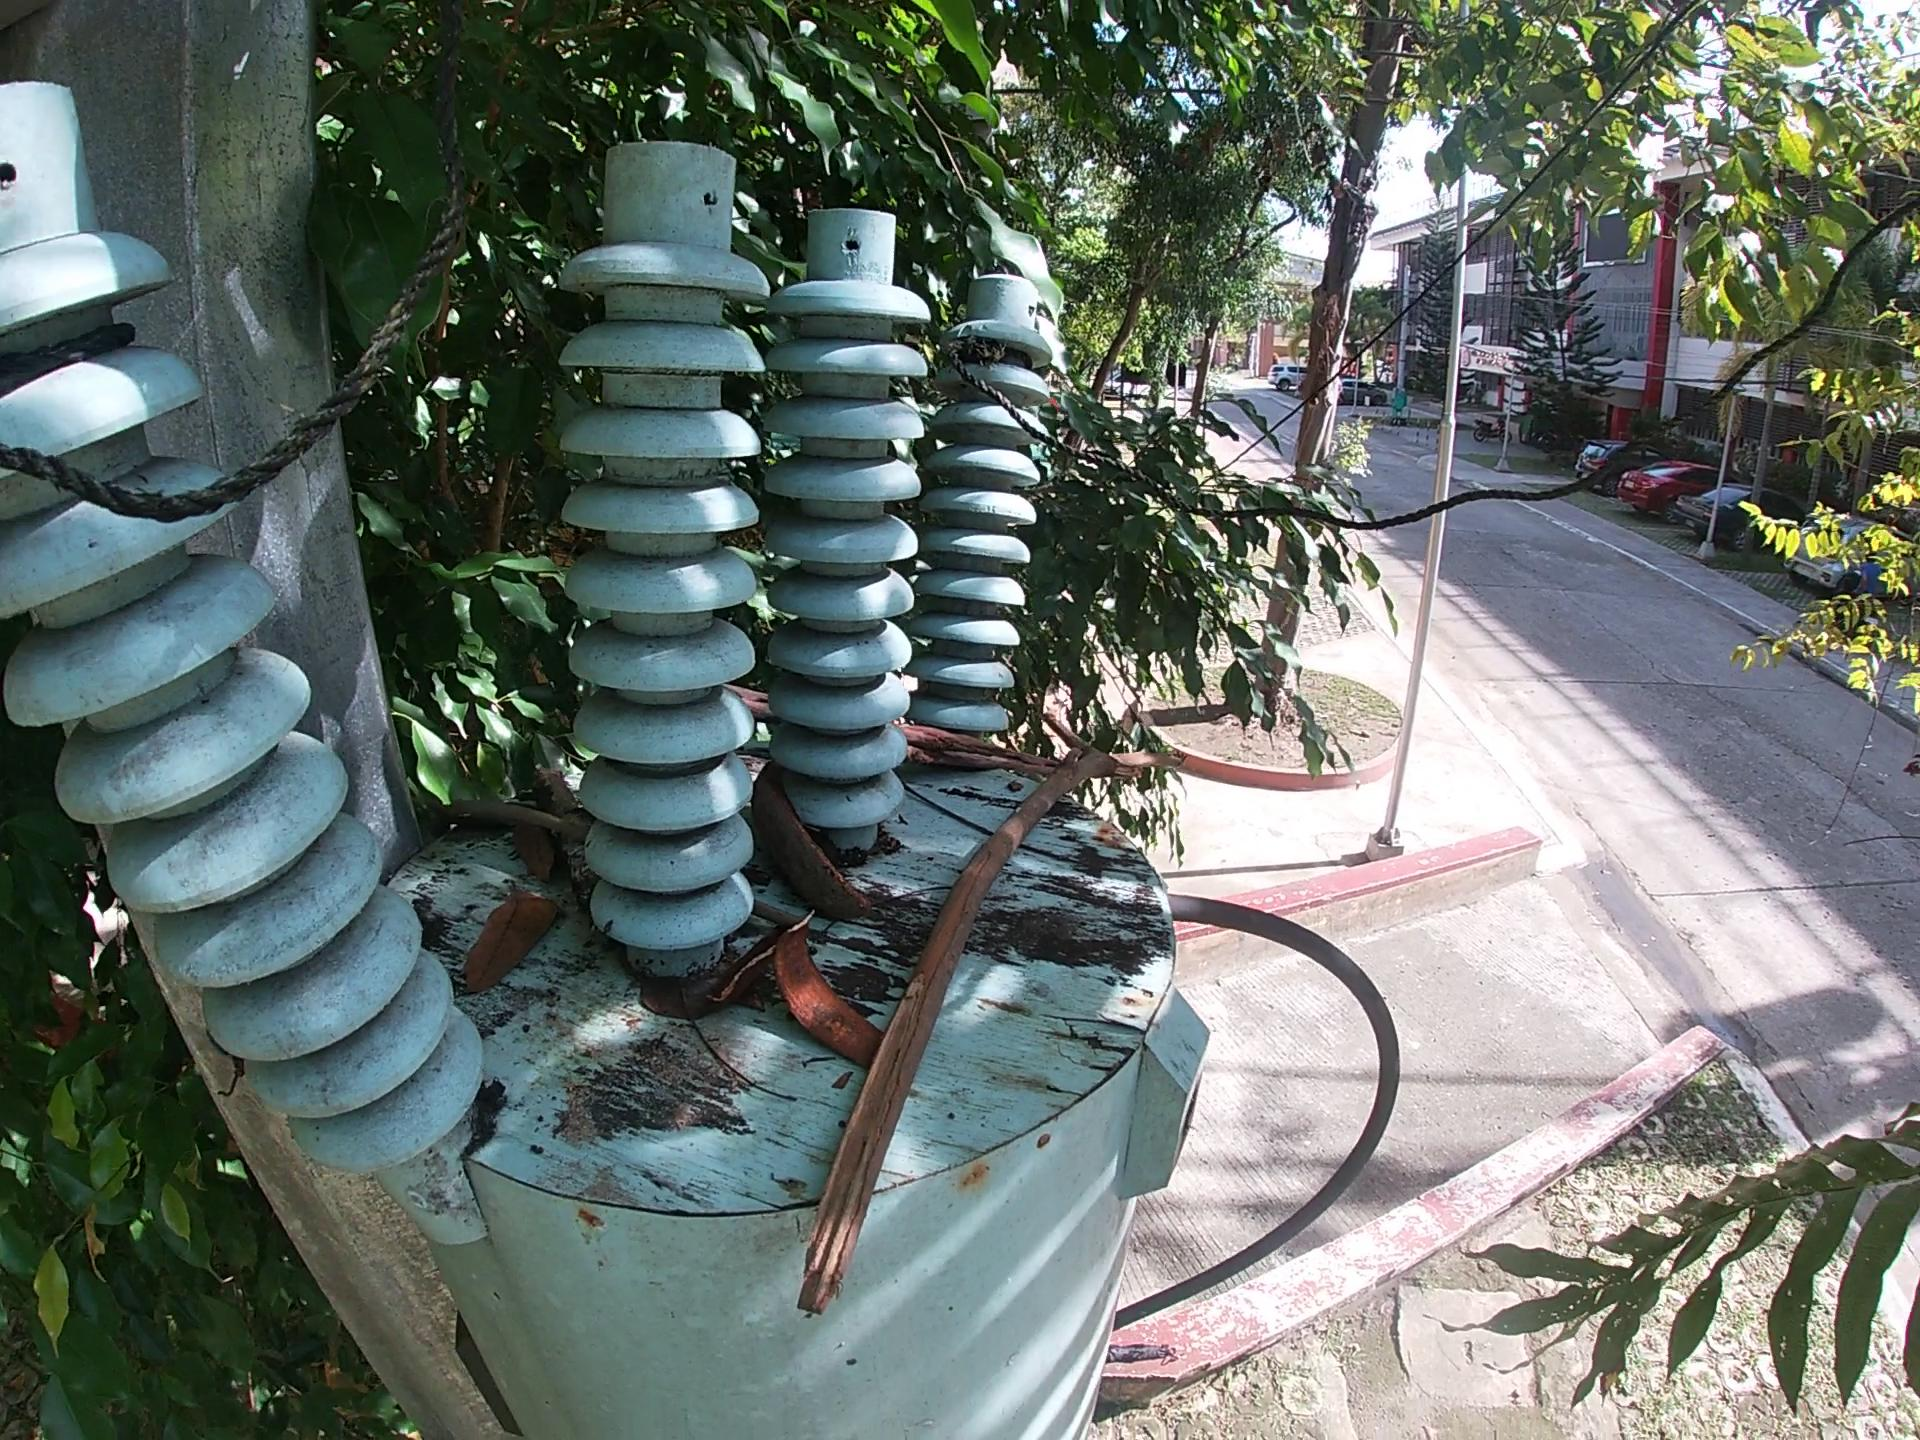leaf: (452, 876, 562, 998), (633, 965, 726, 1023), (503, 818, 562, 892)
mahogany fruit: (745, 759, 872, 926), (768, 906, 892, 1075), (698, 927, 788, 1023)
tree branch: (788, 708, 1191, 1317), (732, 679, 1058, 777), (532, 768, 599, 933), (425, 797, 593, 852), (742, 900, 809, 929)
